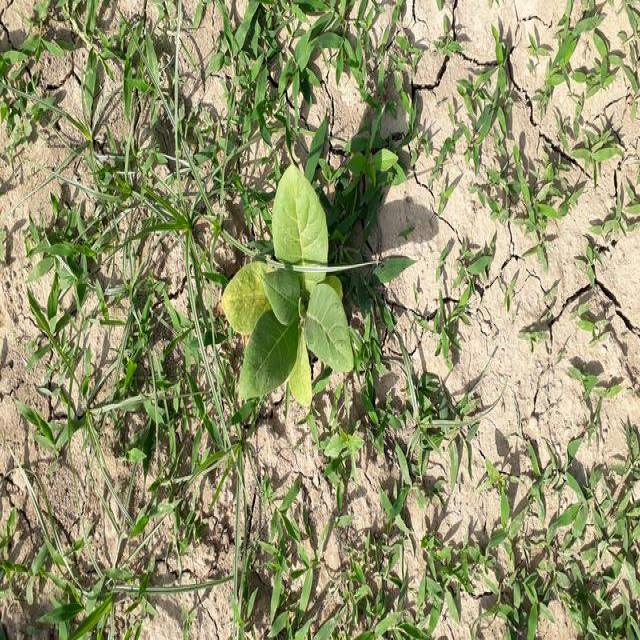crop: (220, 161, 358, 409)
